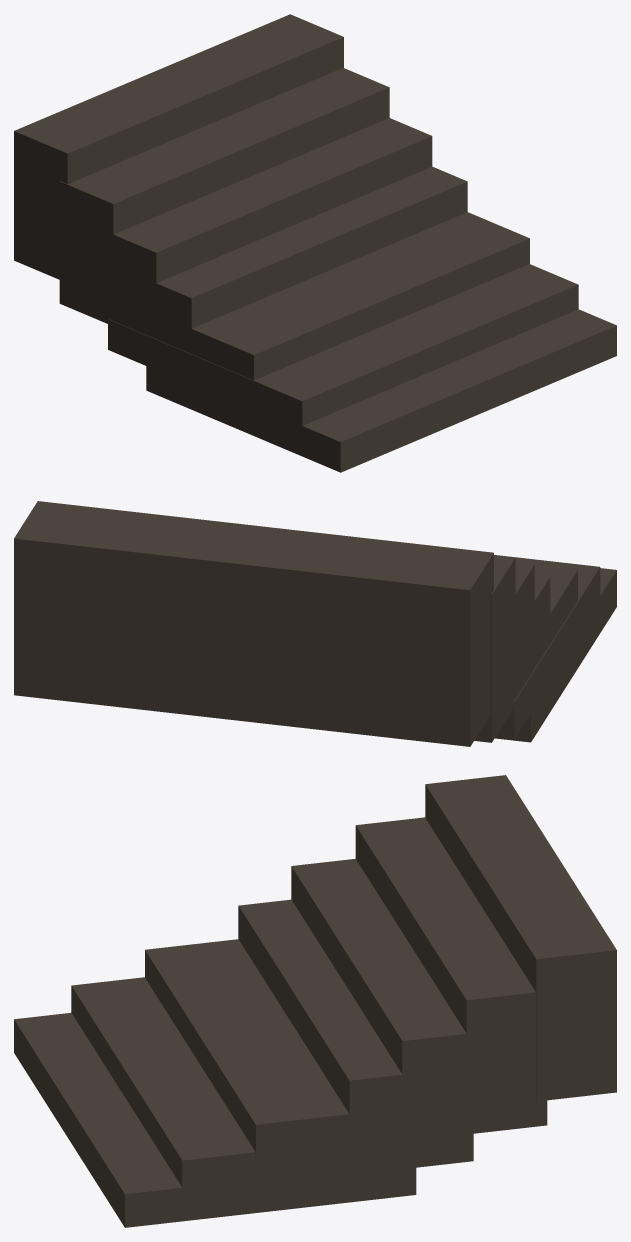
File: steps.fbx
3 views of the same model, one above another, from view 1: azimuth 30°, elevation 25°; view 2: azimuth 150°, elevation 25°; view 3: azimuth 270°, elevation 25° (orthographic). The views are drawn at different scales.
Parts seen in each view (by area): view 1: Box021; view 2: Box021; view 3: Box021.
Part boxes in pixels (<box>): Box021: <box>14,14,616,472</box>; Box021: <box>14,501,616,746</box>; Box021: <box>14,775,616,1227</box>.
Size of the model in its own units: 3.52 by 1.59 by 3.89.
1 material, 1 textured.
